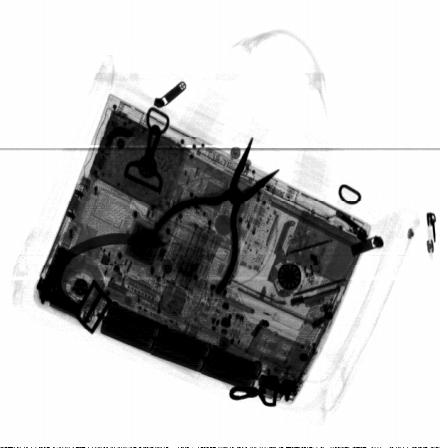Pliers: (153, 136, 281, 298)
